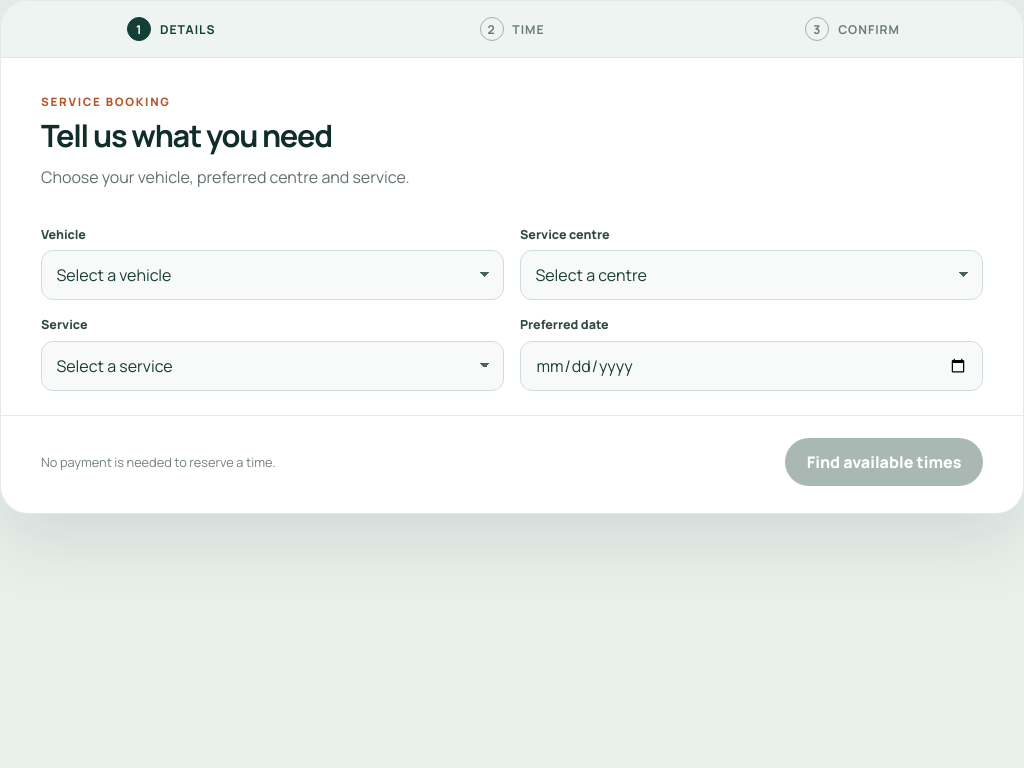
BookingExperience › falls back safely when a service centre timezone is invalid
Select "Atlas Crossover · DEMO 214" in the dropdown labelled "Vehicle" at (272, 275), box x1=41 y1=250 x2=504 y2=300
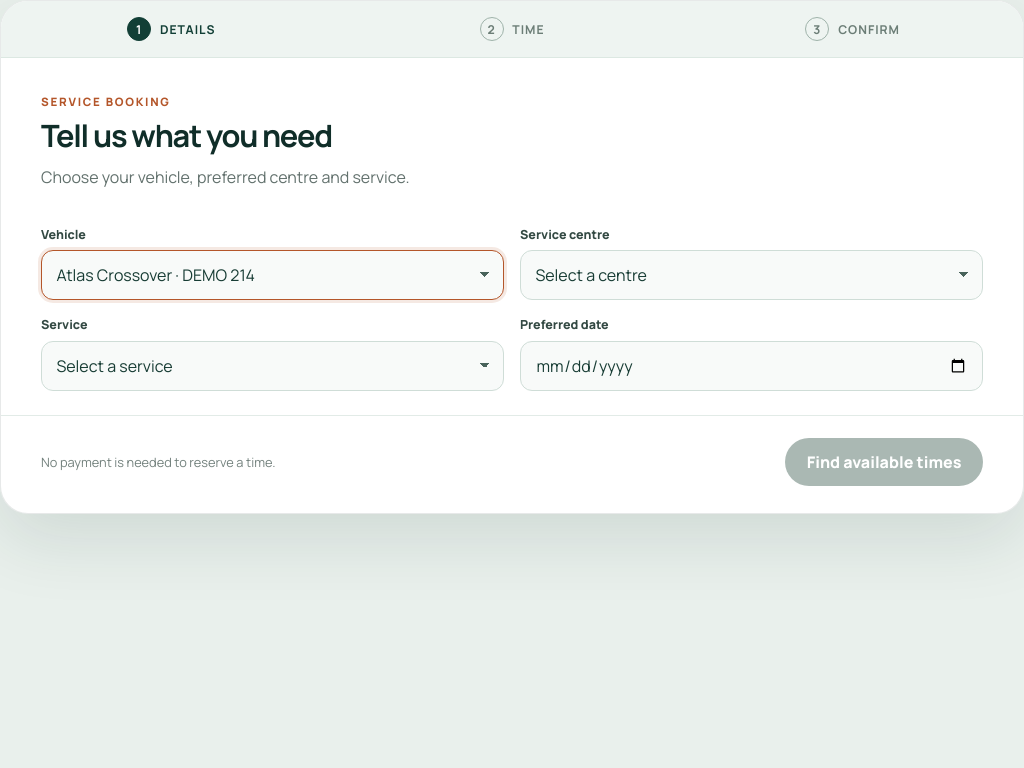
Select "Harbour Service Centre" in the dropdown labelled "Service centre" at (752, 275), box x1=520 y1=250 x2=983 y2=300
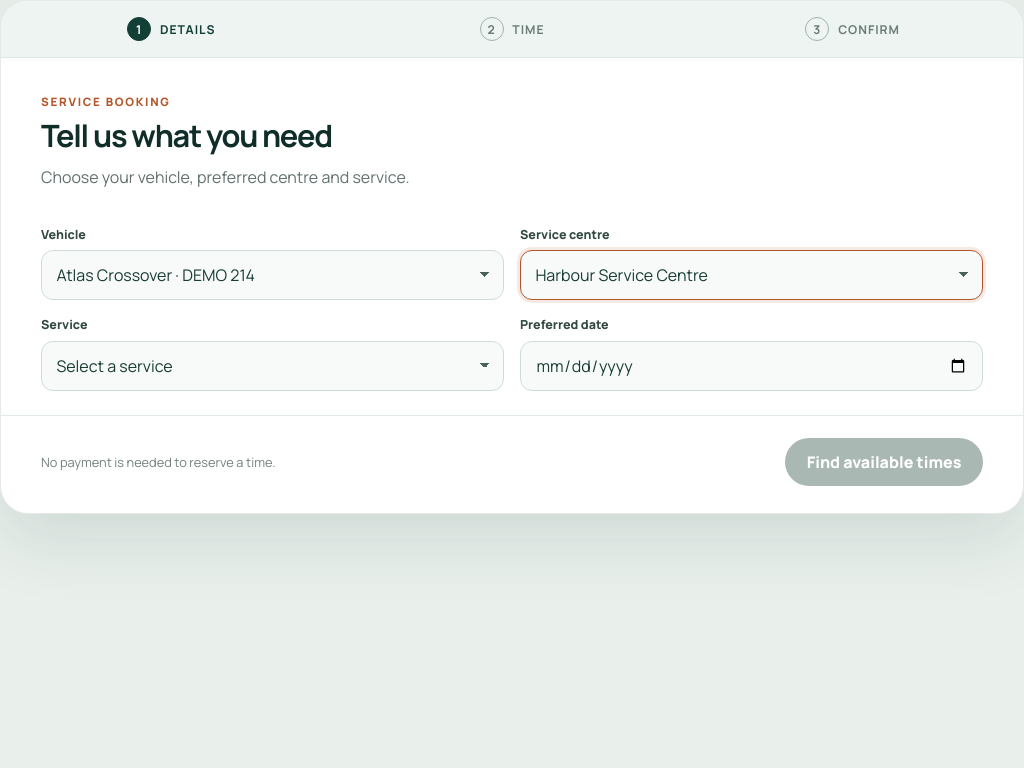
Select "Routine maintenance · 60 min" in the dropdown labelled "Service" at (272, 366), box x1=41 y1=341 x2=504 y2=391
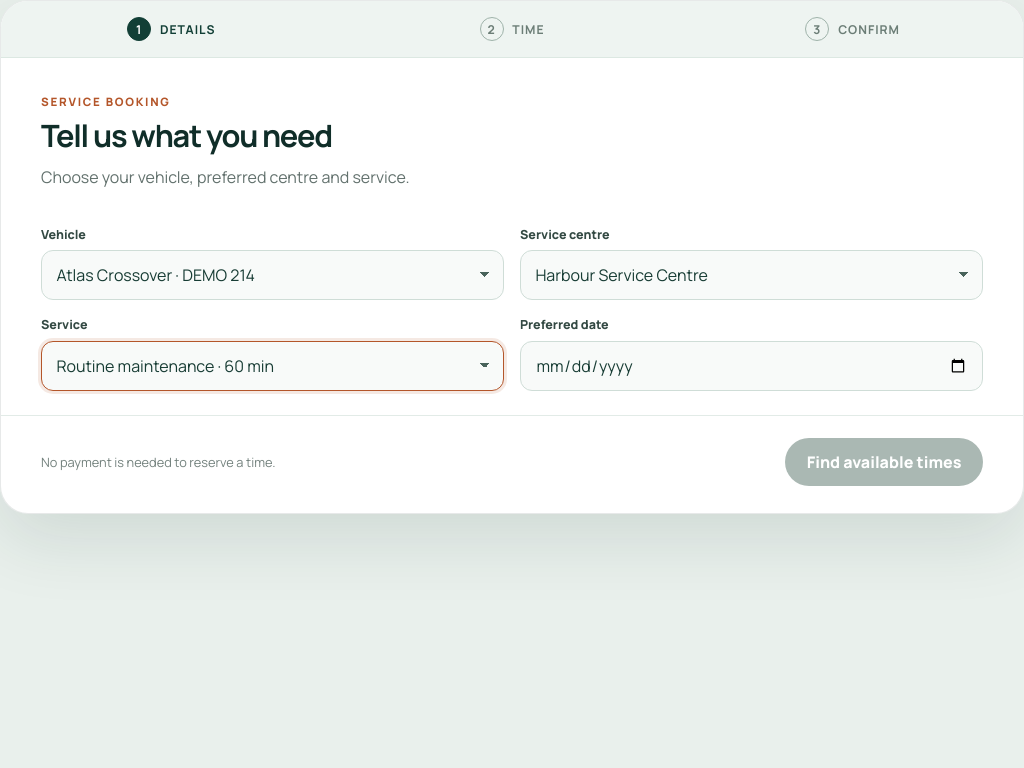
Type "2026-10-02" into the date field labelled "Preferred date" at (752, 366), box x1=520 y1=341 x2=983 y2=391
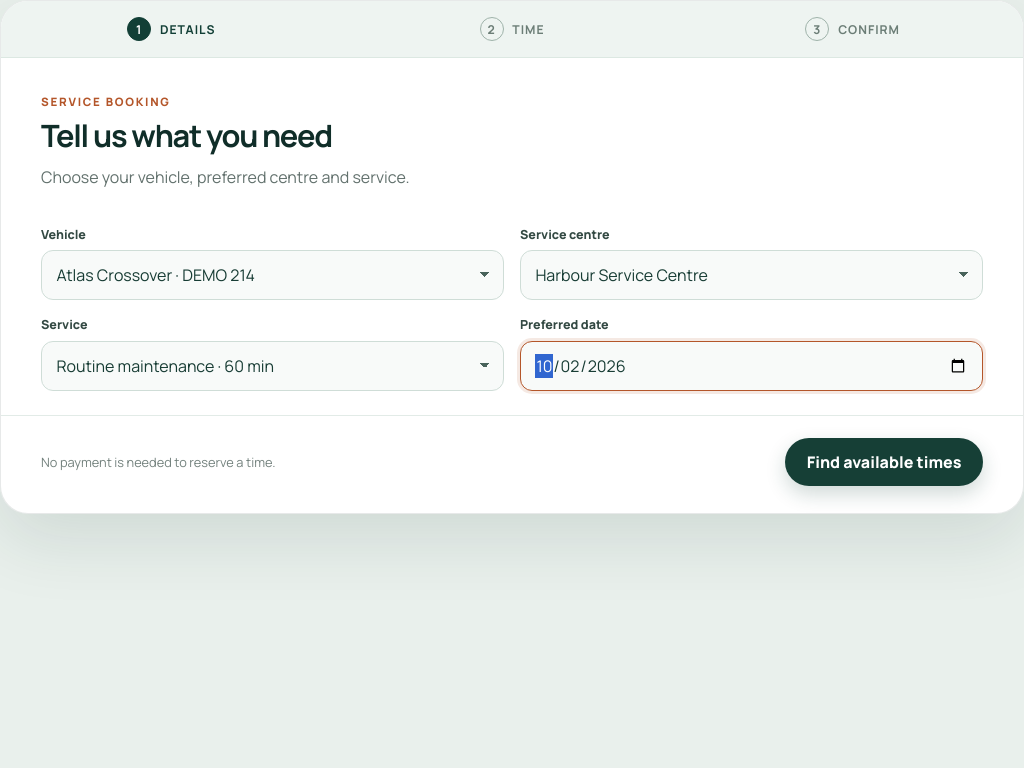
Click the button "Find available times" at (884, 462), box x1=785 y1=438 x2=983 y2=486
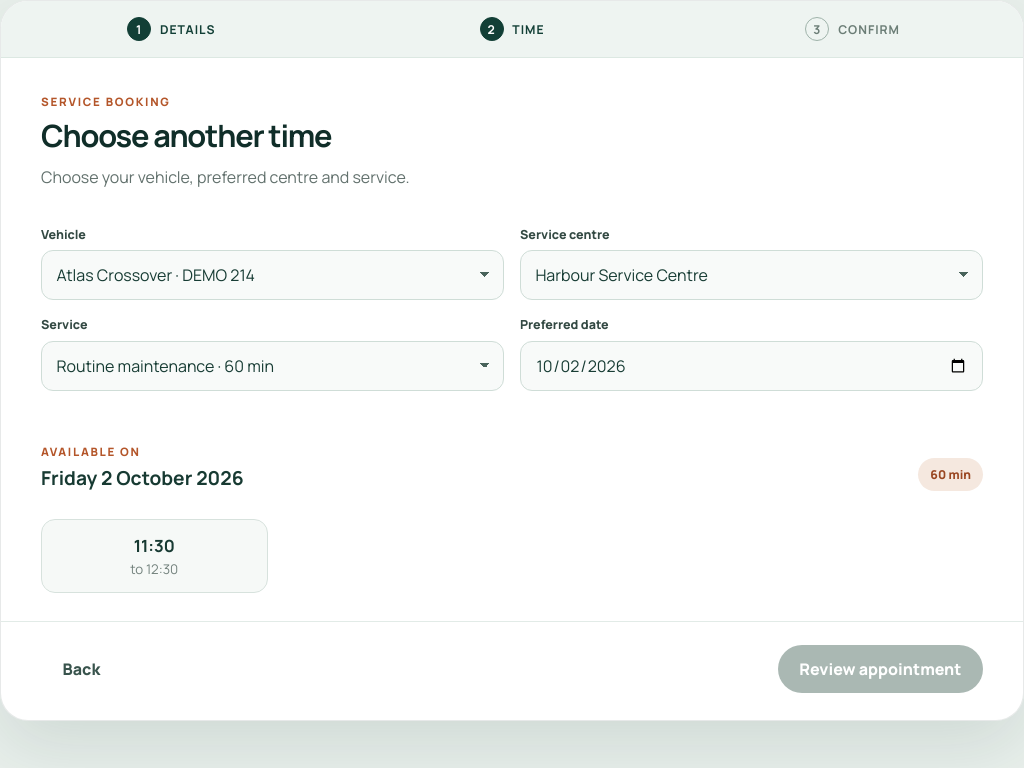
Now the radio button labelled "11:30 to 12:30" is shown, box x1=41 y1=519 x2=268 y2=593
